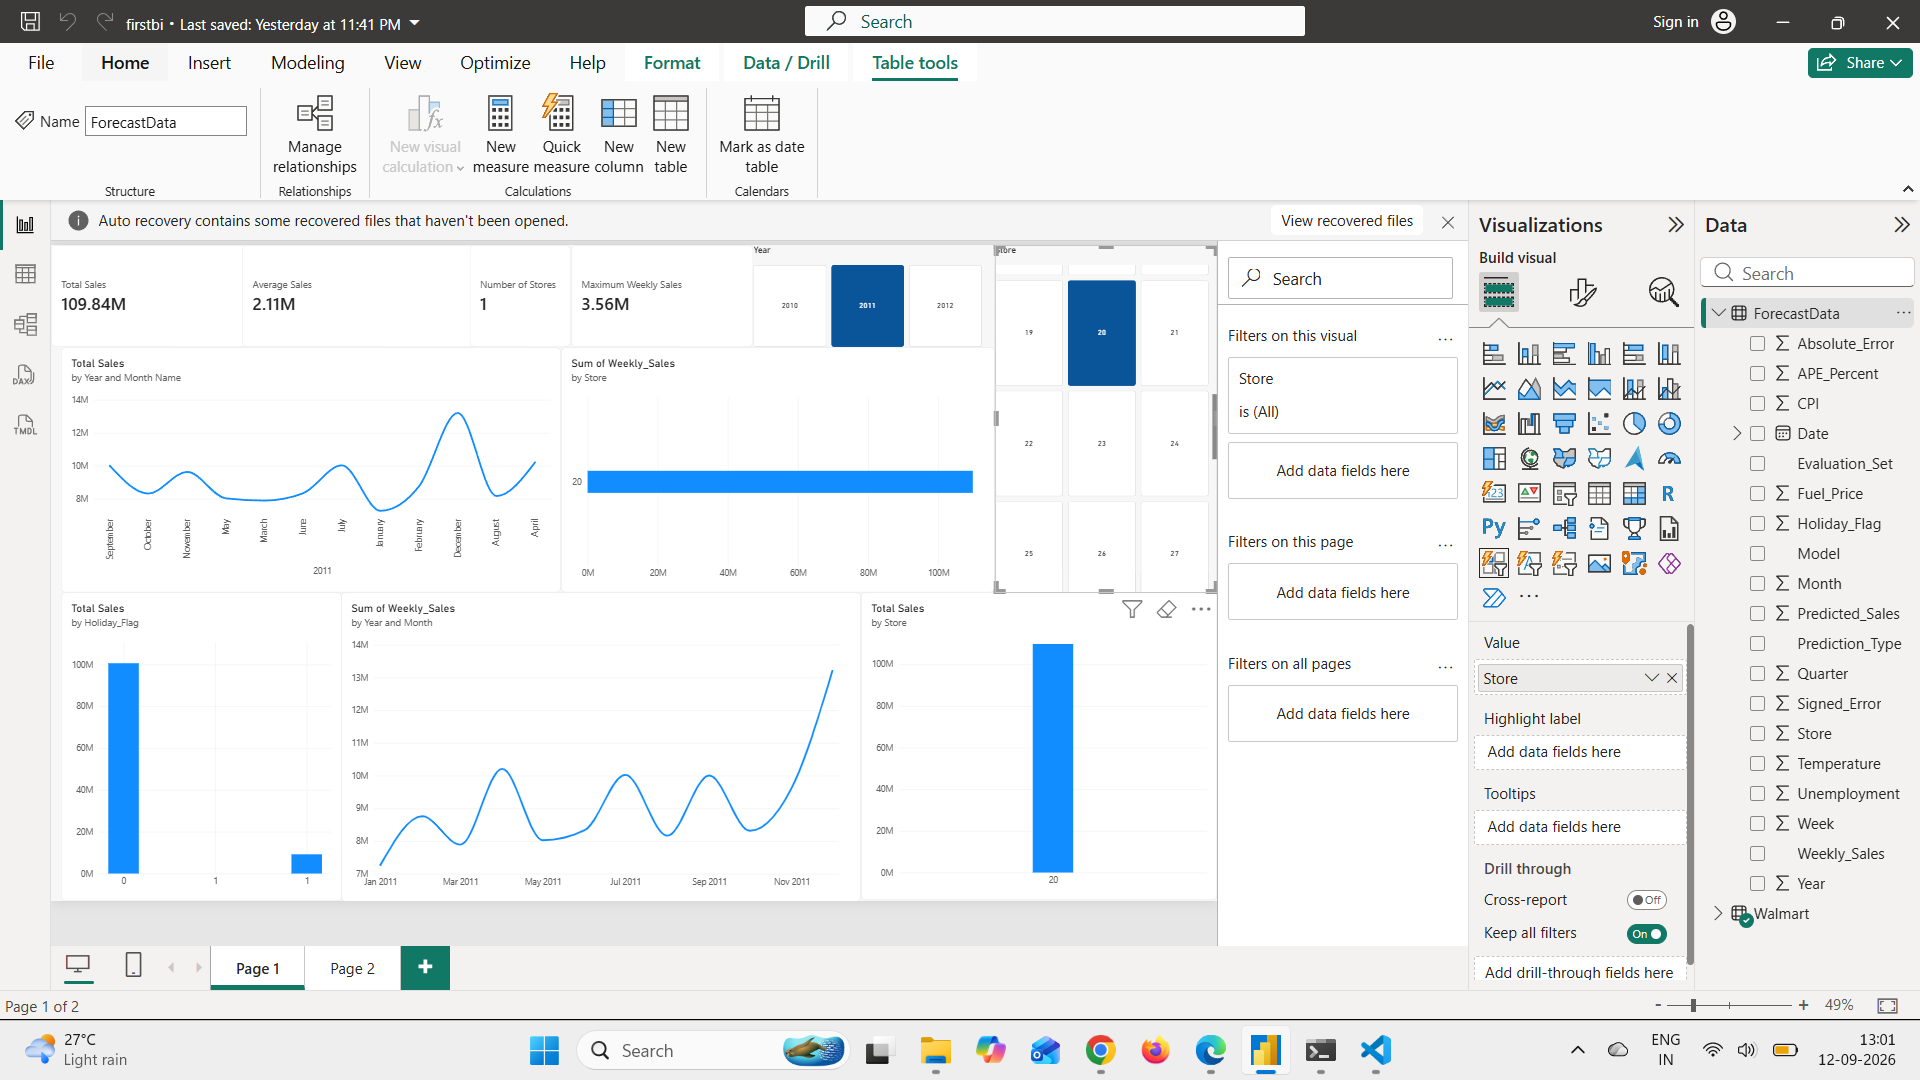

The page's visual inventory and layout, read from the dashboard file:
{"tool":"powerbi","page":{"name":"Page 1","canvas":[1920,1080],"ordinal":0},"visuals":[{"type":"cardVisual","fields":{"Data":["Walmart.Total Sales"]},"box":[0,0,337.6,168.8],"z":0},{"type":"cardVisual","fields":{"Data":["Walmart.Average Sales"]},"box":[314.9,0,391.1,168.8],"z":1000},{"type":"cardVisual","fields":{"Data":["Walmart.Number of Stores"]},"box":[689.5,0,166.7,168.8],"z":2000},{"type":"cardVisual","fields":{"Data":["Walmart.Maximum Weekly Sales"]},"box":[856.3,0,300.5,168.8],"z":3000},{"type":"lineChart","fields":{"Category":["Walmart.Year","Walmart.Month Name"],"Y":["Walmart.Total Sales"]},"box":[16.5,168.8,823.3,403.4],"z":4000},{"type":"lineChart","fields":{"Category":["Walmart.Date.Variation.Date Hierarchy.Year","Walmart.Date.Variation.Date Hierarchy.Month"],"Y":["Sum(Walmart.Weekly_Sales)"]},"box":[477.5,572.2,856.3,508.4],"z":6000},{"type":"clusteredColumnChart","fields":{"Category":["Walmart.Holiday_Flag"],"Y":["Walmart.Total Sales"]},"box":[16,572,462,508],"z":7000},{"type":"columnChart","fields":{"Category":["Walmart.Store"],"Y":["Walmart.Total Sales"]},"box":[1333.8,572.2,586.6,506.3],"z":8000},{"type":"advancedSlicerVisual","fields":{"Values":["Walmart.Store"]},"box":[1333.8,193.5,366.4,352],"z":9000},{"type":"advancedSlicerVisual","fields":{"Values":["Walmart.Year"]},"box":[876.8,201.7,257.3,271.7],"z":10000},{"type":"textbox","title":"Sales Forecasting & Business Intelligence Dashboard","box":[1220.6,28.8,699.8,220.2],"z":10001}]}

Visuals, with their boxes on the page's 1920x1080 design canvas (x1, y1, x2, y2). These are canvas units, not pixel positions in the 1920x1080 screenshot, which may show the page scaled, cropped or inside an application window:
cardVisual - Walmart.Total Sales: BBox(0, 0, 338, 169)
cardVisual - Walmart.Average Sales: BBox(315, 0, 706, 169)
cardVisual - Walmart.Number of Stores: BBox(690, 0, 856, 169)
cardVisual - Walmart.Maximum Weekly Sales: BBox(856, 0, 1157, 169)
lineChart - Walmart.Year x Walmart.Month Name: BBox(16, 169, 840, 572)
lineChart - Walmart.Date.Variation.Date Hierarchy.Year x Walmart.Date.Variation.Date Hierarchy.Month: BBox(478, 572, 1334, 1081)
clusteredColumnChart - Walmart.Holiday_Flag x Walmart.Total Sales: BBox(16, 572, 478, 1080)
columnChart - Walmart.Store x Walmart.Total Sales: BBox(1334, 572, 1920, 1078)
advancedSlicerVisual - Walmart.Store: BBox(1334, 194, 1700, 546)
advancedSlicerVisual - Walmart.Year: BBox(877, 202, 1134, 473)
"Sales Forecasting & Business Intelligence Dashboard" textbox: BBox(1221, 29, 1920, 249)
